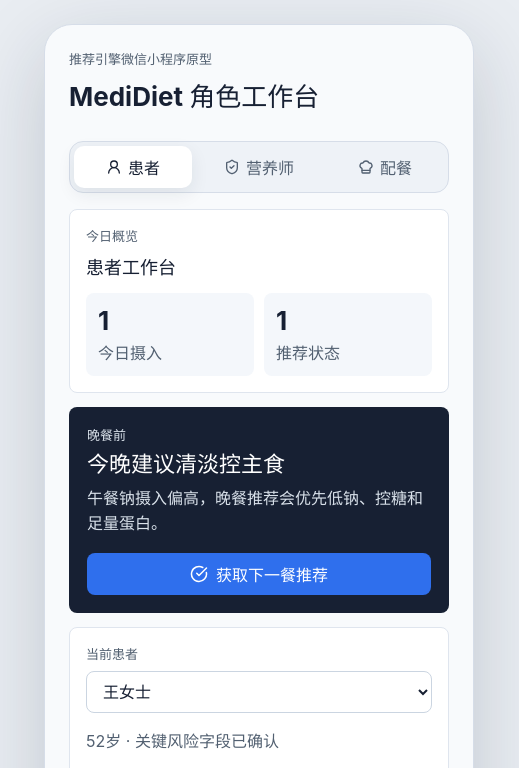
App role workbench › requests backend recommendation for the active patient
The width and height of the screenshot is (519, 768).
Select "李先生" in the dropdown labelled "当前患者": (259, 692) [86,671,432,713]
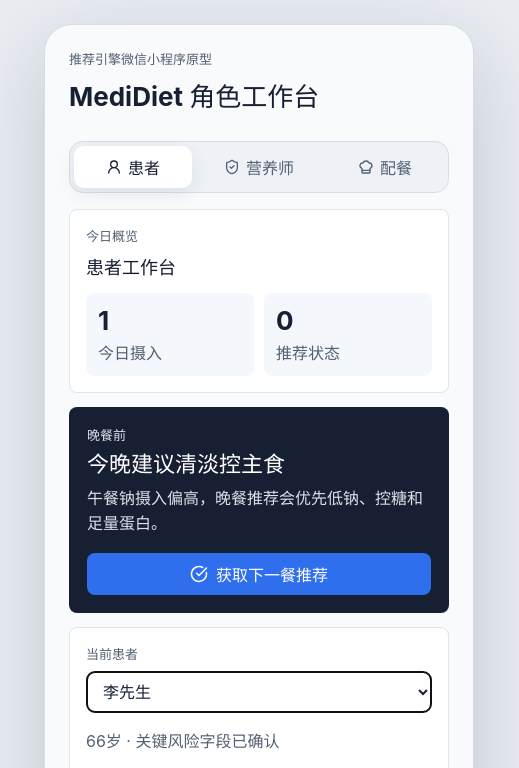
Click the button "获取下一餐推荐": (259, 574) [87,553,431,595]
(page scrolled)
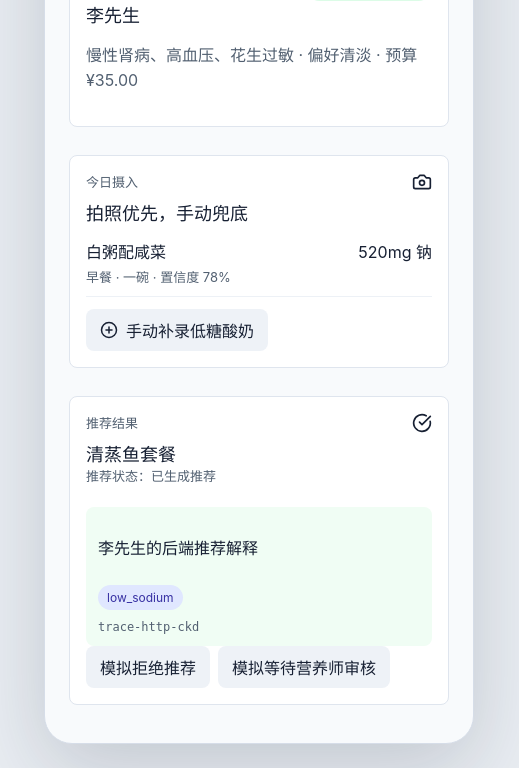
expect the text "李先生的后端推荐解释" is shown: met, box [98,538,258,558]
